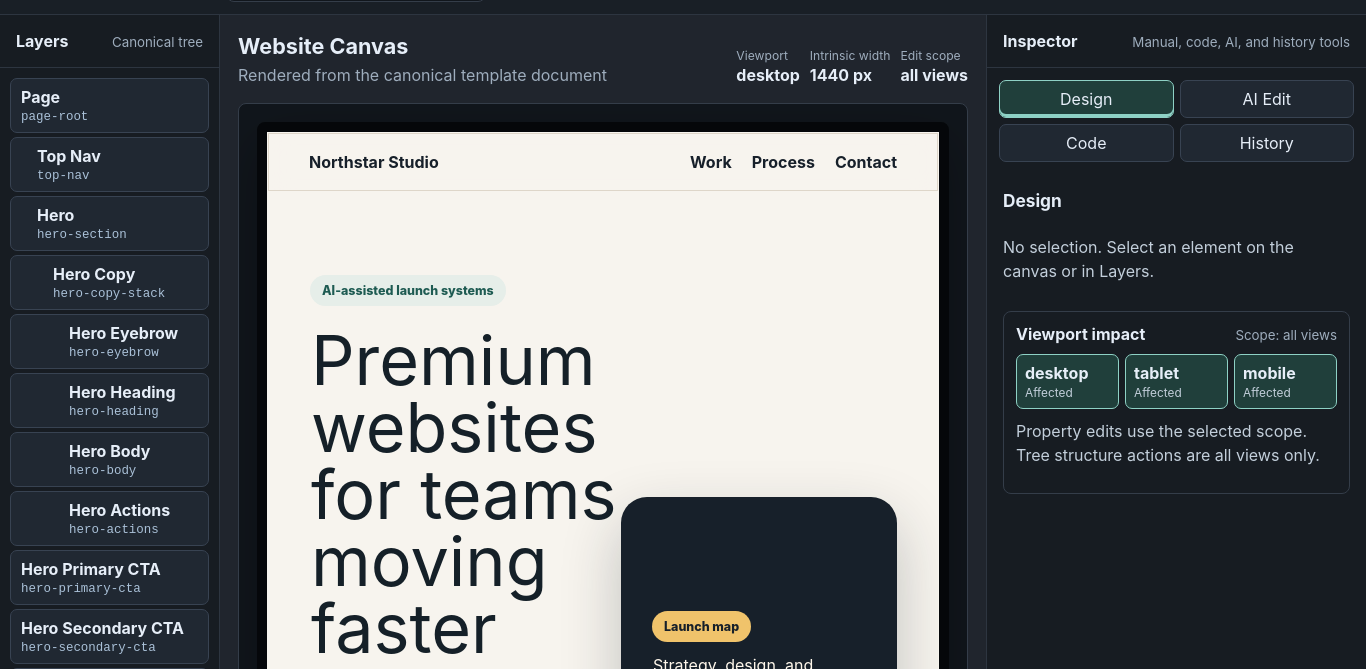
EditorShell › deselects a layer when the selected layer is clicked again
This screenshot has width=1366, height=669.
Step 1. Click the button with aria-label "Hero Heading, hero-heading" → (110,400), box [10,373,209,428]
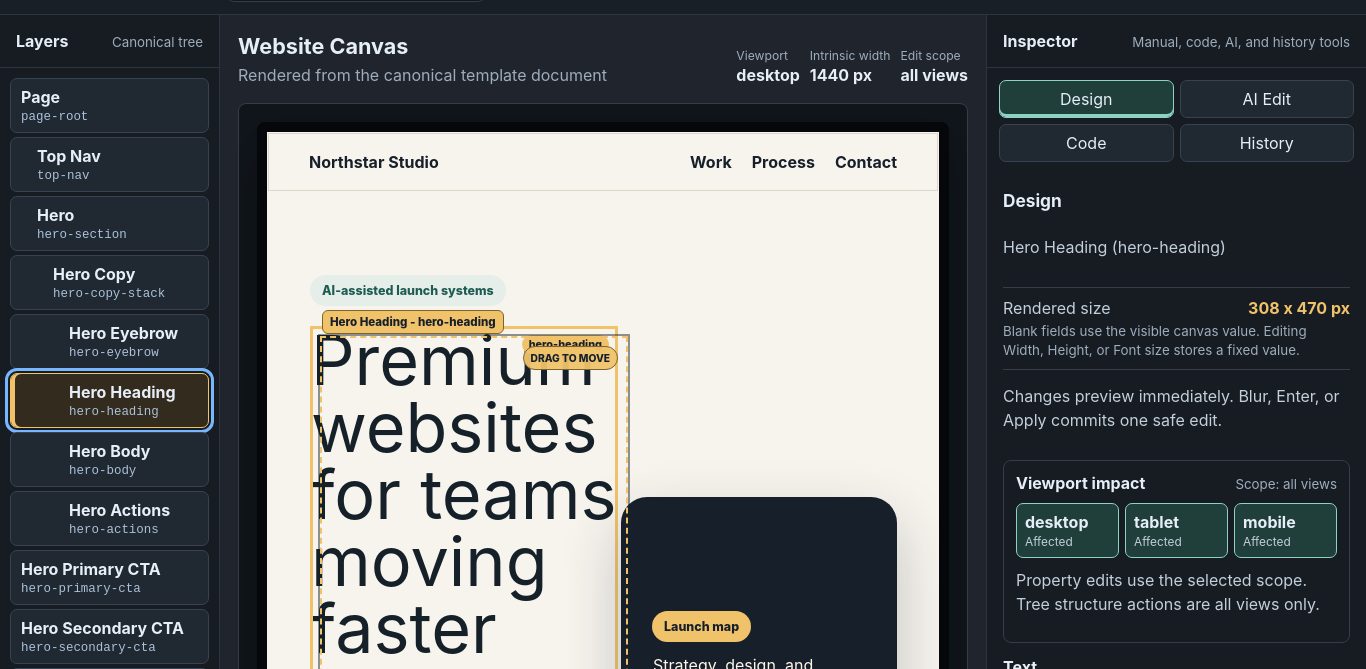
Expected: the button with aria-label "Hero Heading, hero-heading" is pressed
Step 2. Click the button with aria-label "Hero Heading, hero-heading" → (110,400), box [10,373,209,428]
(page scrolled)
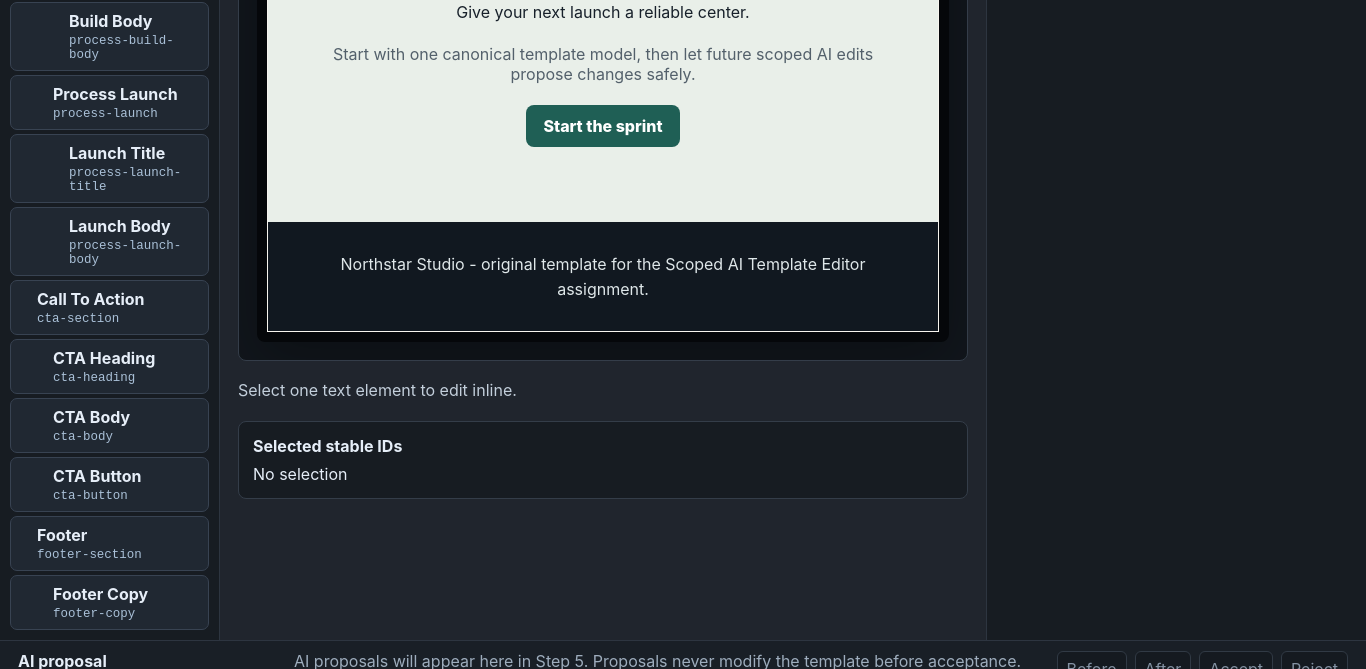
Expected: the text "No selection" is shown, [253,464,347,484]
